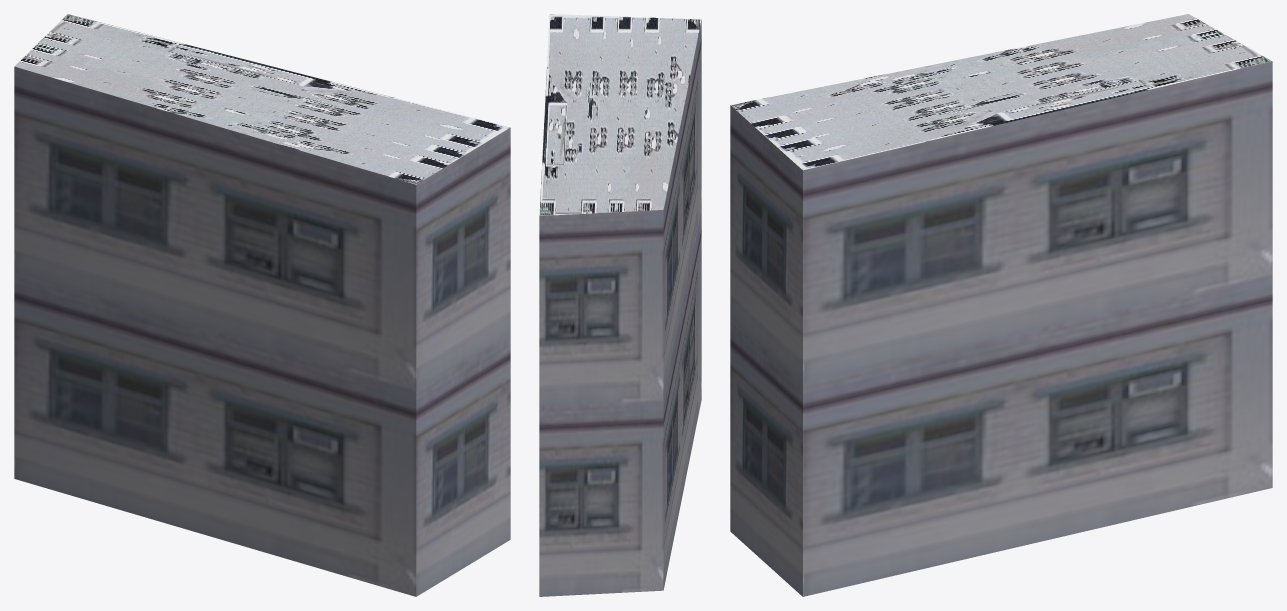
The model's file is ResTex_.fbx.
The picture shows the model from 3 angles, left to right: view 1: azimuth 30°, elevation 25°; view 2: azimuth 150°, elevation 25°; view 3: azimuth 270°, elevation 25°; orthographic projection. The views are drawn at different scales.
Parts seen in each view (by area): view 1: CityEngineMaterial_1_m, CityEngineMaterial_m; view 2: CityEngineMaterial_1_m, CityEngineMaterial_m; view 3: CityEngineMaterial_1_m, CityEngineMaterial_m.
Part boxes in pixels (bbox=[...]): CityEngineMaterial_1_m: bbox=[14, 66, 510, 596]; CityEngineMaterial_m: bbox=[14, 14, 510, 184]; CityEngineMaterial_1_m: bbox=[539, 20, 701, 596]; CityEngineMaterial_m: bbox=[539, 14, 701, 215]; CityEngineMaterial_1_m: bbox=[730, 61, 1272, 596]; CityEngineMaterial_m: bbox=[731, 14, 1271, 170].
Bounding box in the file's own units: 4.72 × 6 × 6.91.
2 materials, 2 textured.
